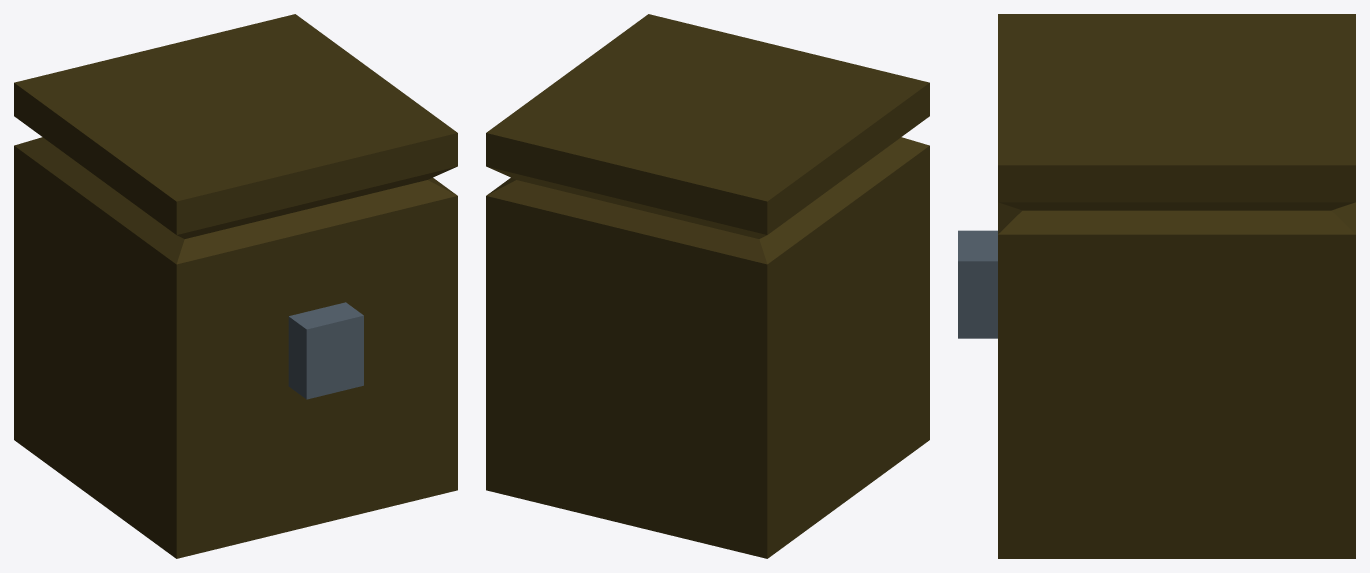
The model's file is chest.glb.
3 renders of one model, left to right at view 1: azimuth 30°, elevation 25°; view 2: azimuth 150°, elevation 25°; view 3: azimuth 270°, elevation 25°, orthographic. The views are drawn at different scales.
Visible parts, largest first — view 1: Cube; view 2: Cube; view 3: Cube.
Part boxes in pixels (x1=…): Cube: x1=14, y1=14, x2=457, y2=558; Cube: x1=486, y1=14, x2=929, y2=558; Cube: x1=958, y1=14, x2=1355, y2=558.
Bounding box in the file's own units: 0.487 × 0.591 × 0.5414.
